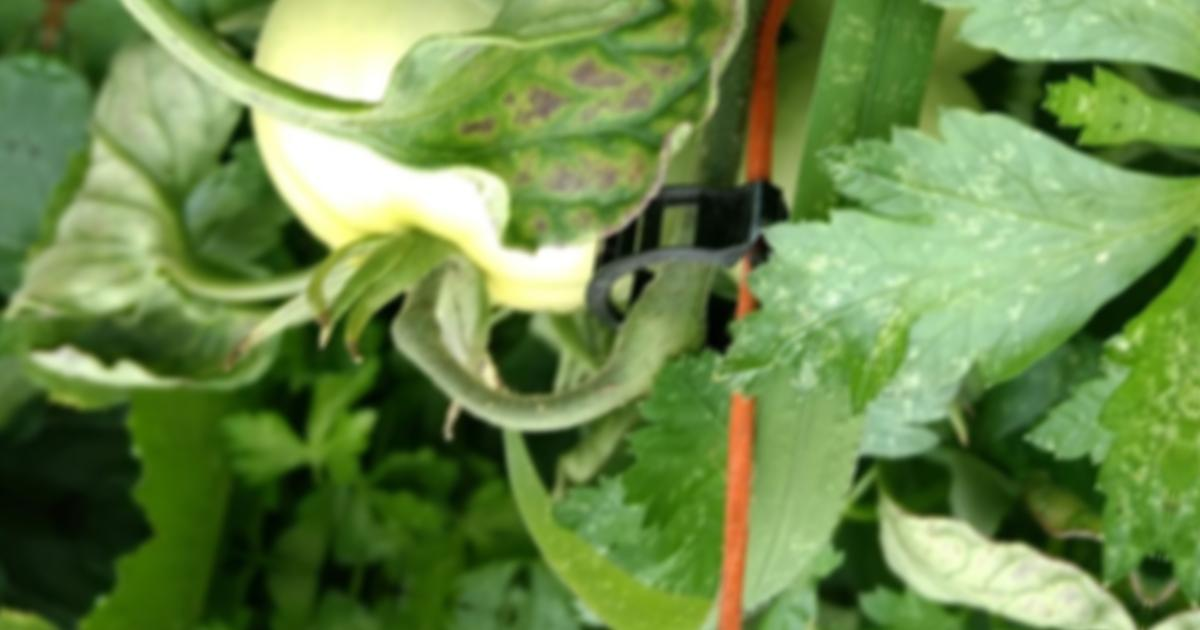Tomato leaf mosaic virus: (719, 65, 1200, 489)
